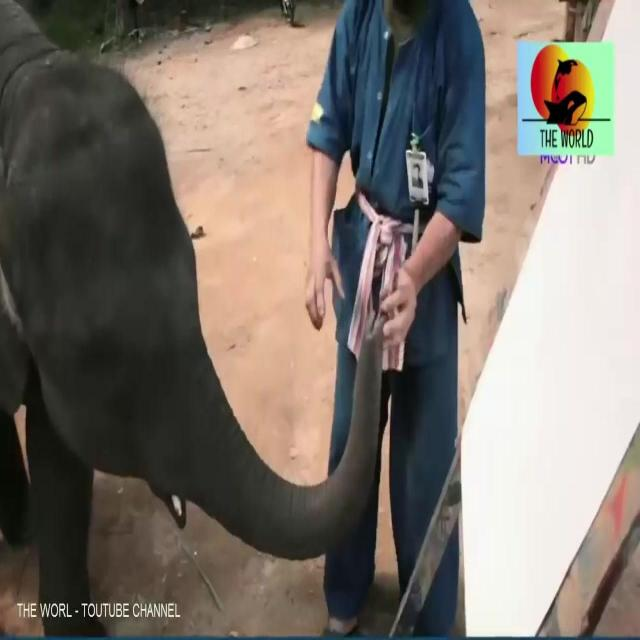Elephant: (0, 13, 372, 583)
